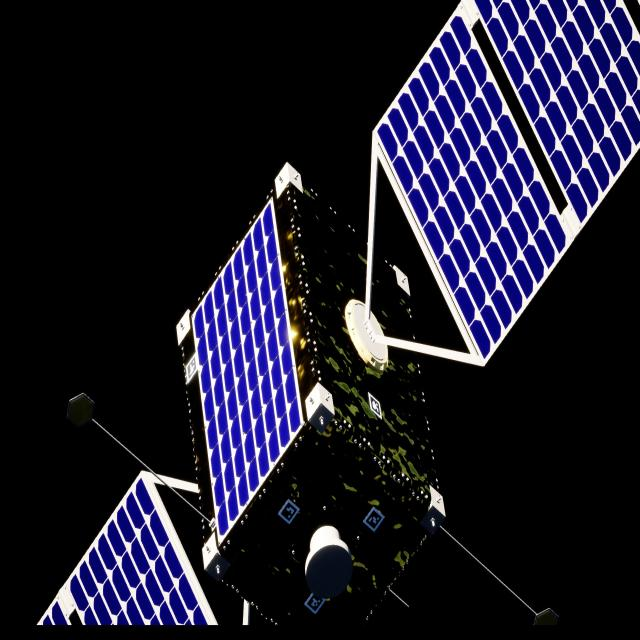satellite: (39, 0, 640, 640)
